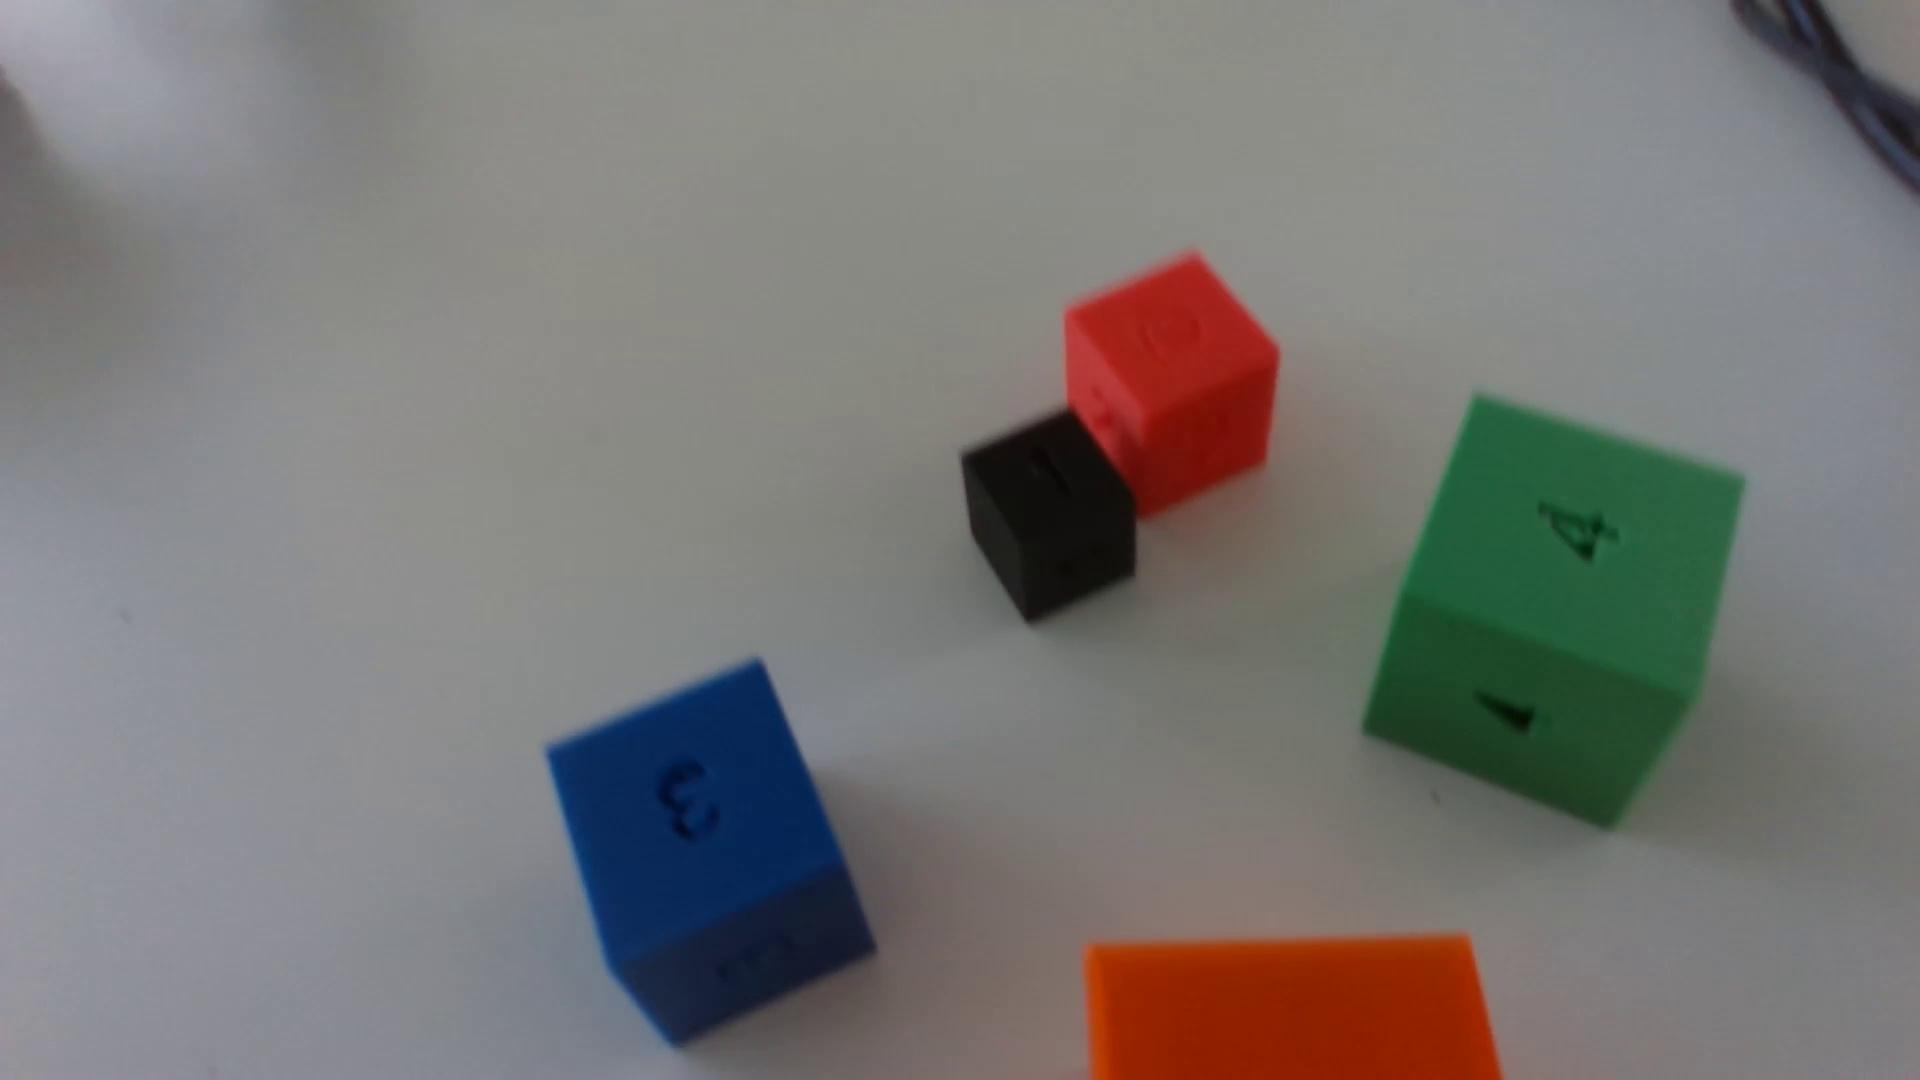black: (960, 410, 1137, 624)
blue: (547, 662, 872, 1046)
green: (1364, 396, 1742, 828)
orange: (1084, 936, 1502, 1080)
red: (1064, 256, 1280, 518)
